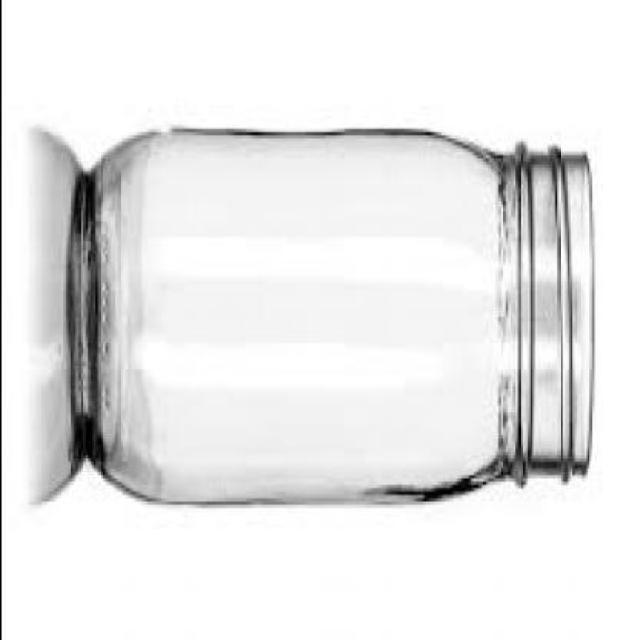GLASS: (72, 122, 596, 501)
